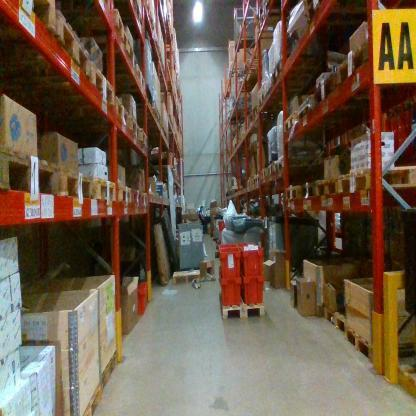pallets: (6, 0, 154, 151), (0, 147, 142, 210), (282, 165, 415, 203), (322, 306, 376, 369), (78, 349, 120, 415), (219, 298, 267, 322)
